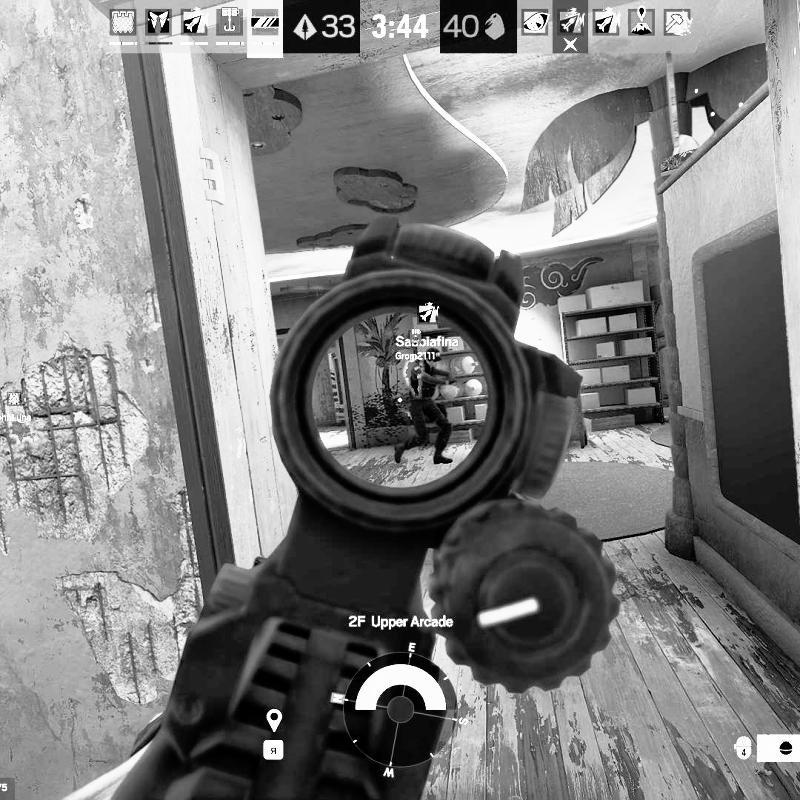Character: (392, 347, 454, 465)
Friend_label: (395, 302, 460, 347), (395, 329, 437, 361), (0, 391, 33, 421)
Head: (425, 347, 442, 369)
